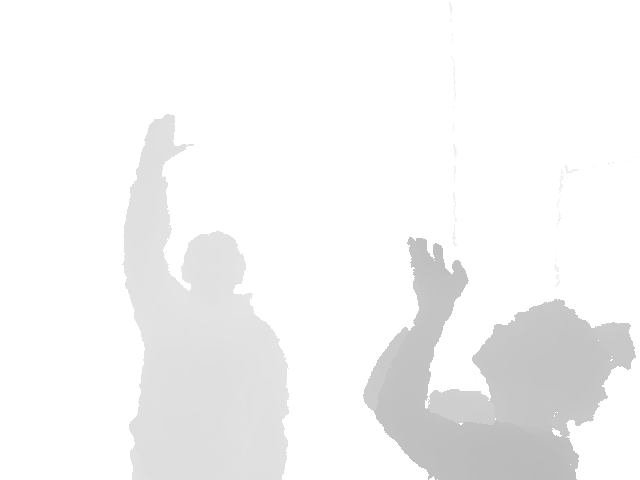hand: (407, 236, 469, 331), (136, 115, 190, 174)
head: (470, 299, 635, 434), (182, 229, 247, 302)
person: (362, 236, 635, 480), (121, 114, 289, 480)
